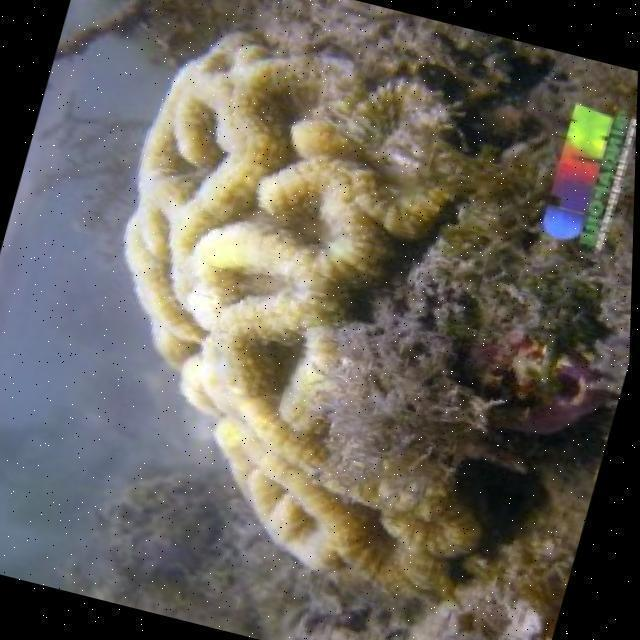Bleached Coral: (25, 30, 582, 615)
